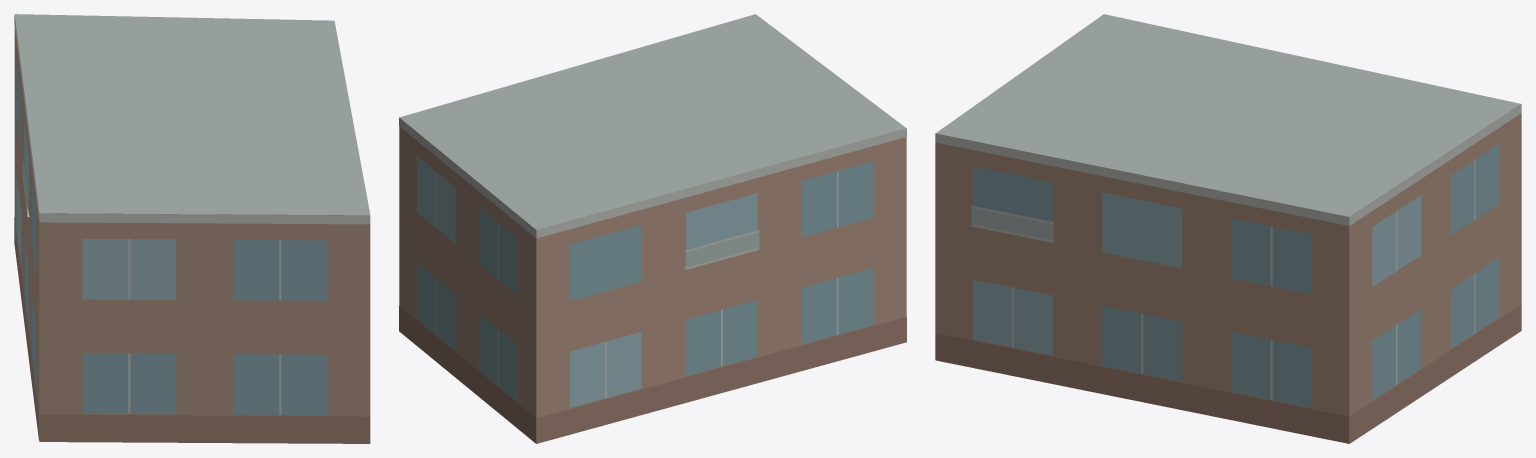
The model's file is survey-upis-32882390.glb.
The picture shows the model from 3 angles, left to right: view 1: azimuth 30°, elevation 25°; view 2: azimuth 150°, elevation 25°; view 3: azimuth 270°, elevation 25°; orthographic projection. The views are drawn at different scales.
Parts seen in each view (by area): view 1: survey-upis-32882390.tmp; view 2: survey-upis-32882390.tmp; view 3: survey-upis-32882390.tmp.
Part boxes in pixels (bbox=[...]): survey-upis-32882390.tmp: bbox=[14, 14, 370, 443]; survey-upis-32882390.tmp: bbox=[399, 14, 906, 443]; survey-upis-32882390.tmp: bbox=[935, 14, 1521, 443].
Size of the model in its own units: 11.71 by 6.1 by 14.29.
